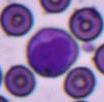M: (27, 27, 79, 77)
